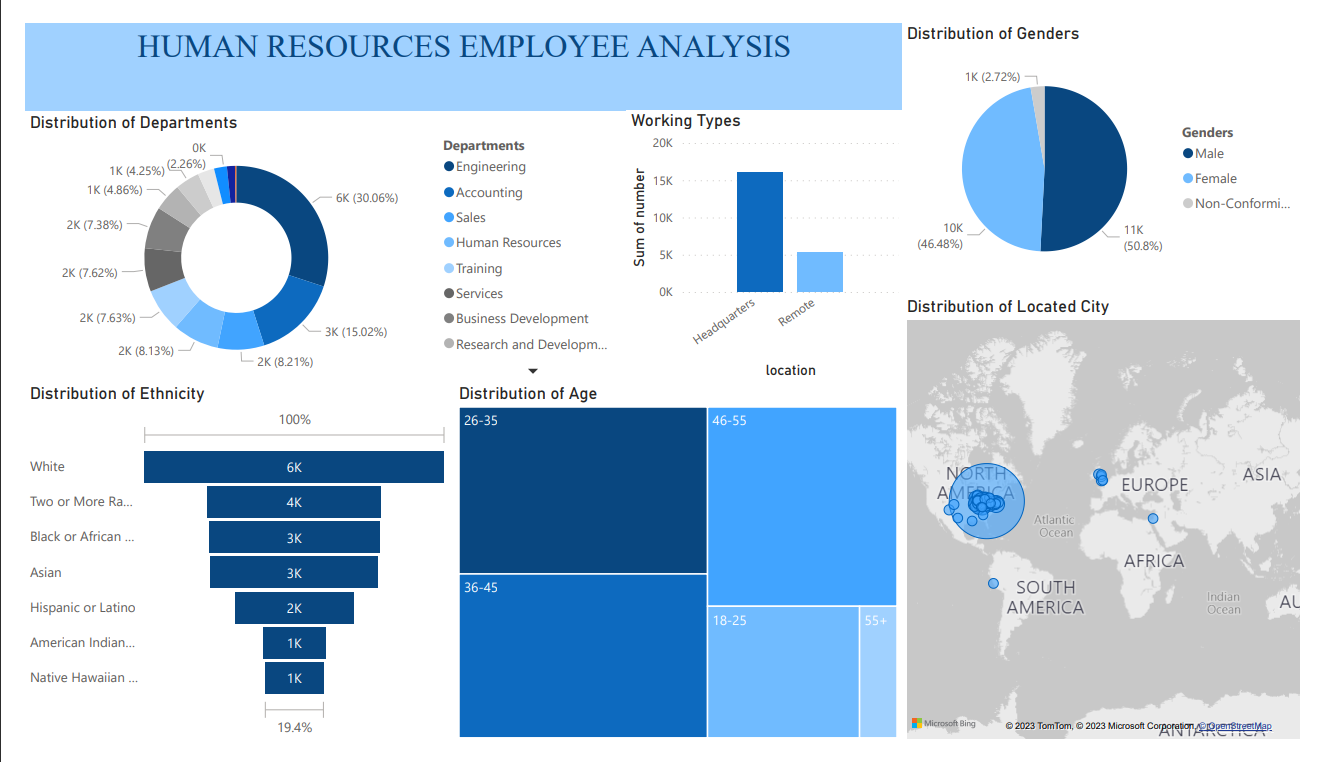

The page's visual inventory and layout, read from the dashboard file:
{"tool":"powerbi","page":{"name":"Page 1","canvas":[1280,720],"ordinal":0},"visuals":[{"type":"textbox","box":[0,0,878.8,87.3],"z":0},{"type":"treemap","title":"Distribution of Age","fields":{"Values":["Sum(age.COUNT(*))"],"Group":["age.distribution"]},"box":[428.6,360.1,448.8,360.1],"z":1},{"type":"donutChart","title":"Distribution of Departments","fields":{"Y":["Sum(department.number)"],"Category":["department.department"]},"box":[0,88.7,600.6,272.8],"z":3},{"type":"pieChart","title":"Distribution of Genders","fields":{"Category":["gender.gender"],"Y":["Sum(gender.number)"]},"box":[877.4,0,403.1,272.8],"z":4},{"type":"map","title":"Distribution of Located City","fields":{"Category":["location.location_city"],"Size":["Sum(location.number)"]},"box":[877.4,272.8,401.8,447.5],"z":8},{"type":"funnel","title":"Distribution of Ethnicity","fields":{"Category":["race.race"],"Y":["Sum(race.number)"]},"box":[0,360.1,428.6,360.1],"z":9},{"type":"columnChart","title":"Working Types","fields":{"Category":["working type.location"],"Y":["Sum(working type.number)"]},"box":[600.6,87.3,278.1,272.8],"z":10}]}

Visuals, with their boxes in screenshot pixels (x1, y1, x2, y2), scaled from the page's 1280x720 canvas onto the 1328x762 screenshot:
textbox: {"x1": 0, "y1": 0, "x2": 912, "y2": 92}
"Distribution of Age" treemap: {"x1": 445, "y1": 381, "x2": 910, "y2": 761}
"Distribution of Departments" donutChart: {"x1": 0, "y1": 94, "x2": 623, "y2": 383}
"Distribution of Genders" pieChart: {"x1": 910, "y1": 0, "x2": 1327, "y2": 289}
"Distribution of Located City" map: {"x1": 910, "y1": 289, "x2": 1327, "y2": 761}
"Distribution of Ethnicity" funnel: {"x1": 0, "y1": 381, "x2": 445, "y2": 761}
"Working Types" columnChart: {"x1": 623, "y1": 92, "x2": 912, "y2": 381}
